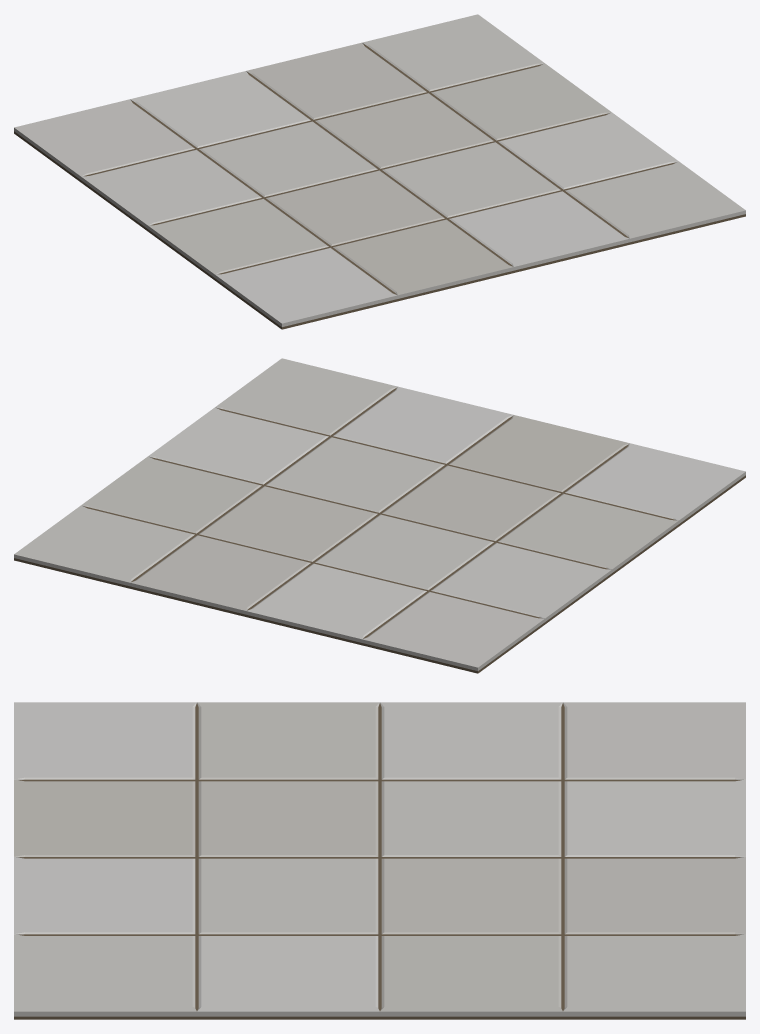
The model's file is pf-promenade-paving-tile-5656ce.glb.
3 renders of one model, top to bottom at view 1: azimuth 30°, elevation 25°; view 2: azimuth 150°, elevation 25°; view 3: azimuth 270°, elevation 25°, orthographic. The views are drawn at different scales.
Visible parts, largest first — view 1: paving; view 2: paving; view 3: paving.
Part boxes in pixels (bbox=[...]): paving: bbox=[14, 14, 745, 329]; paving: bbox=[14, 358, 745, 673]; paving: bbox=[14, 702, 745, 1019].
Size of the model in its own units: 4 by 0.05 by 4.
